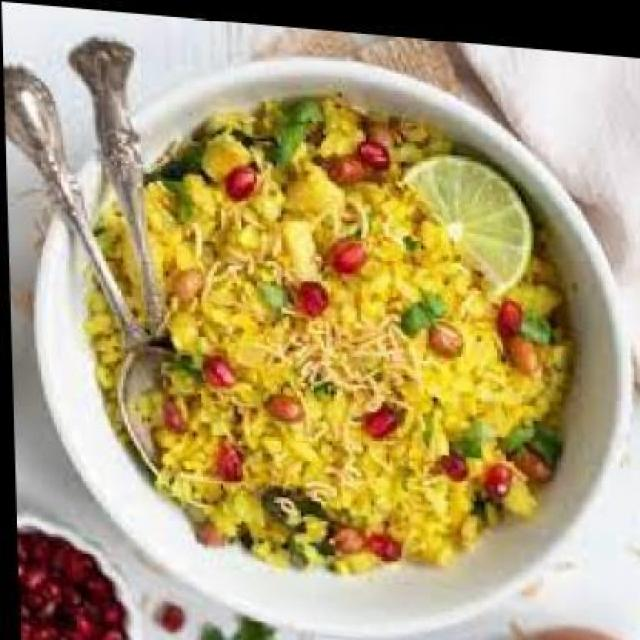poha: (75, 70, 574, 584)
